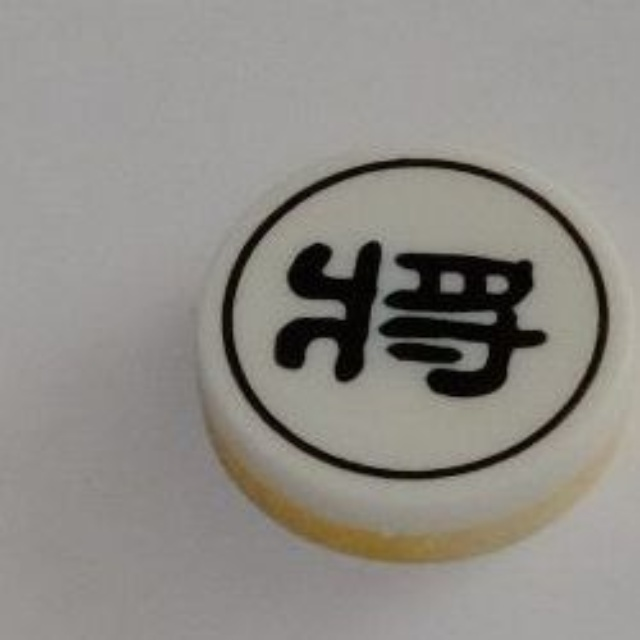black_tuong: (185, 145, 640, 574)
